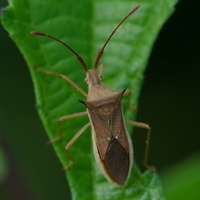insect: (31, 0, 165, 185)
